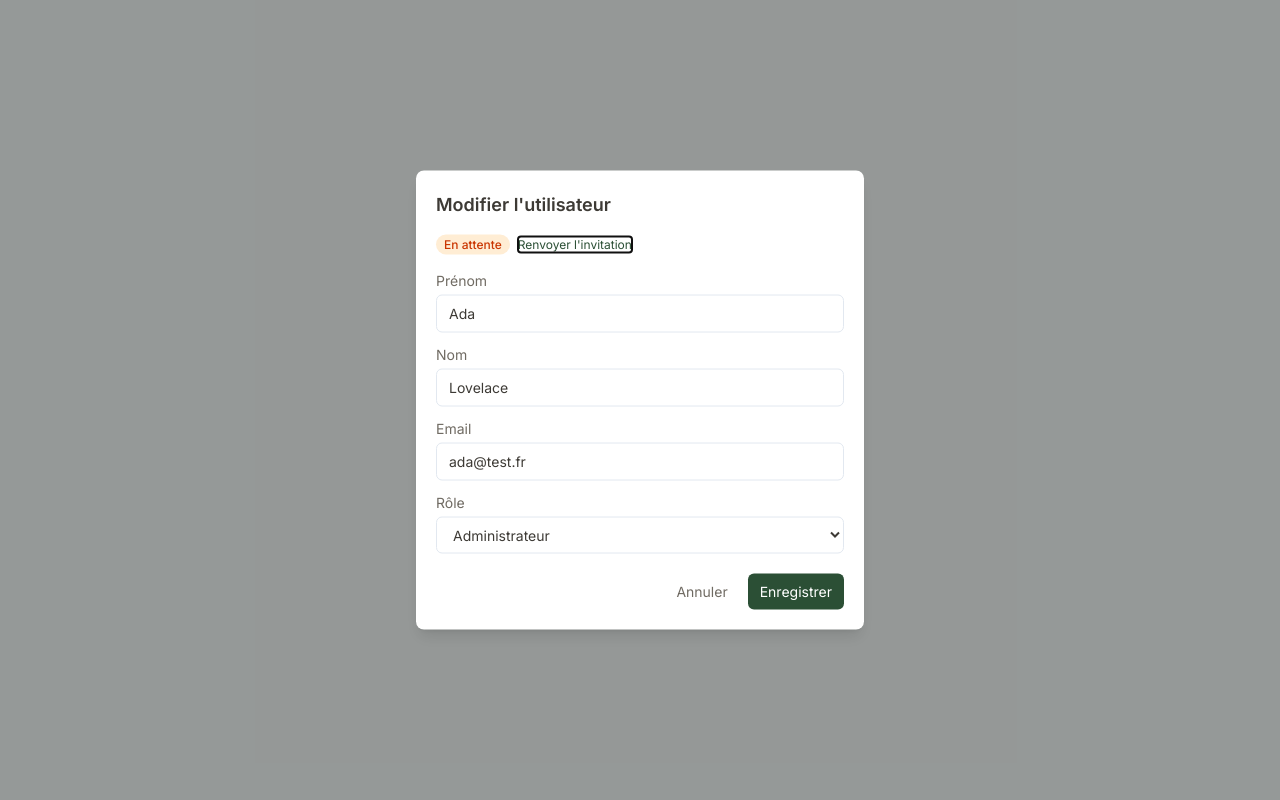
Scenario: UserFormModal › affiche « En attente » et un bouton de renvoi pour un compte non activé
Expected: the text "En attente" is shown, [436,234,510,254]
Click the button "Renvoyer l'invitation".
click(575, 244)  # box [518,236,632,252]
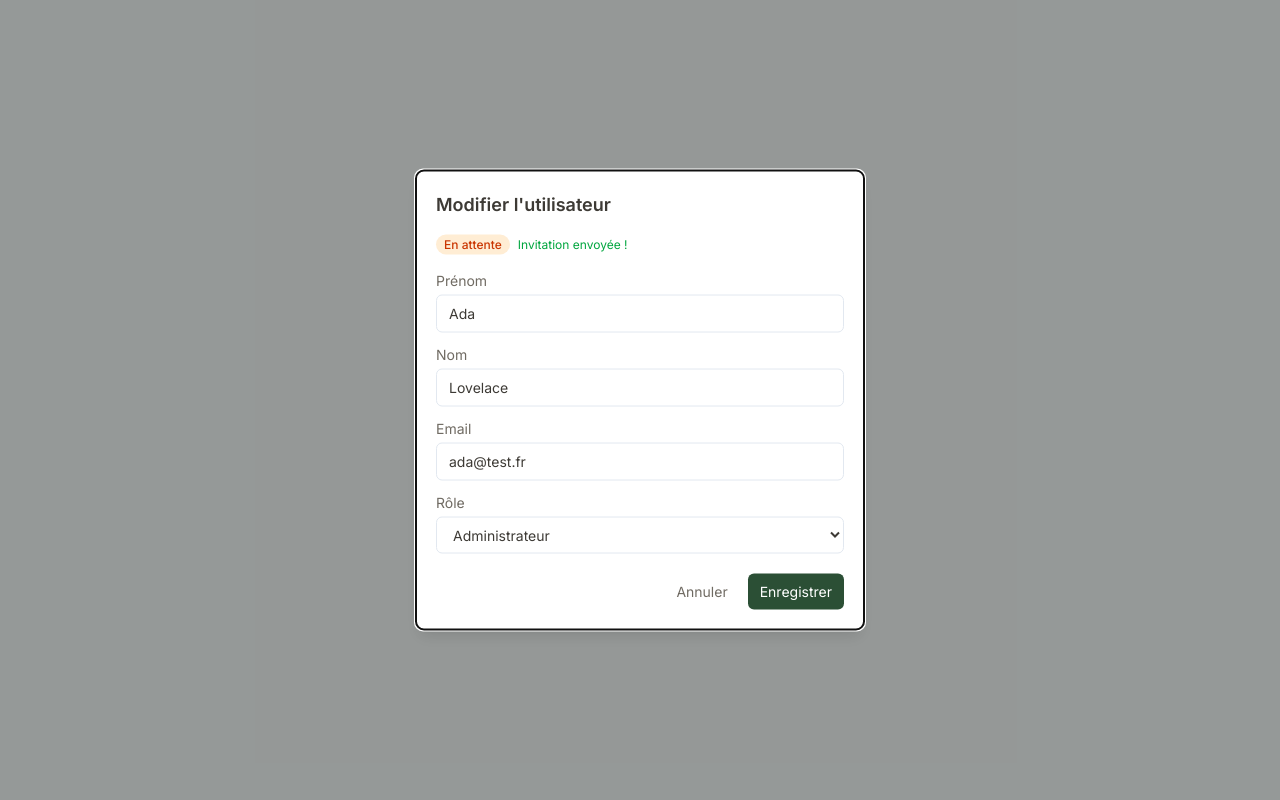
Expected: the text "Invitation envoyée !" is shown, [518,236,628,252]
